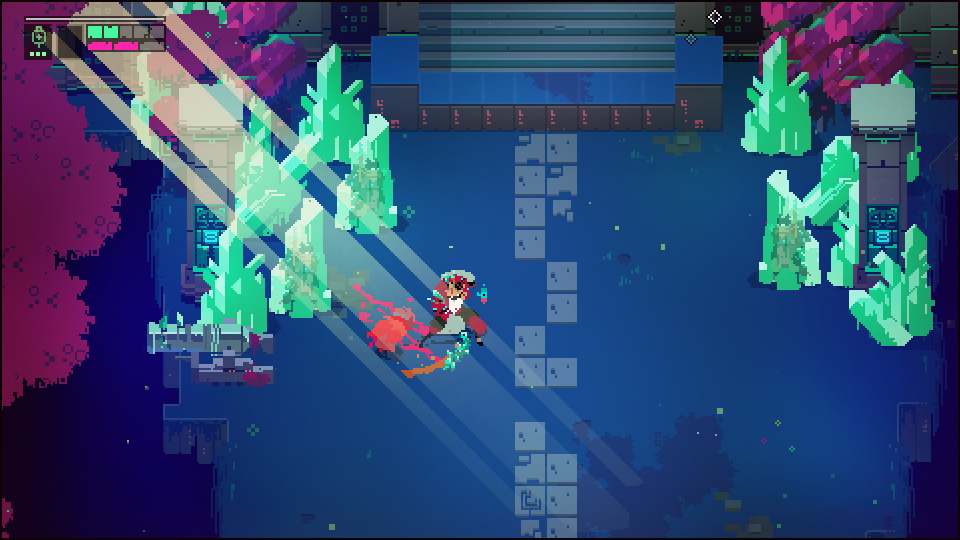hanged_man: (411, 262, 486, 374)
player: (368, 308, 414, 353)
